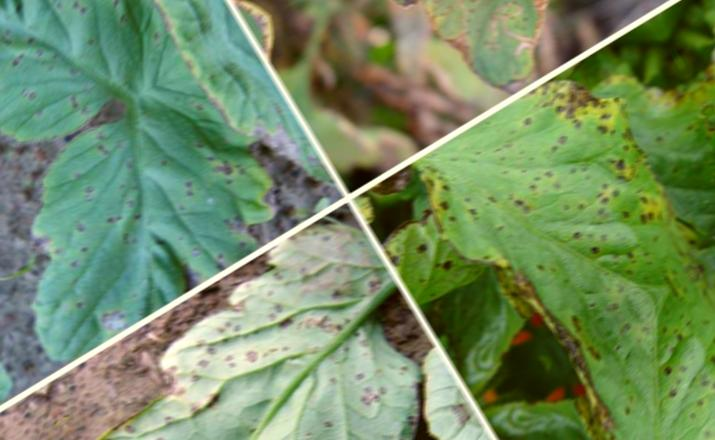Tomato leaf bacterial spot: (386, 52, 715, 384), (45, 217, 457, 440), (0, 62, 292, 367), (347, 0, 609, 134)
